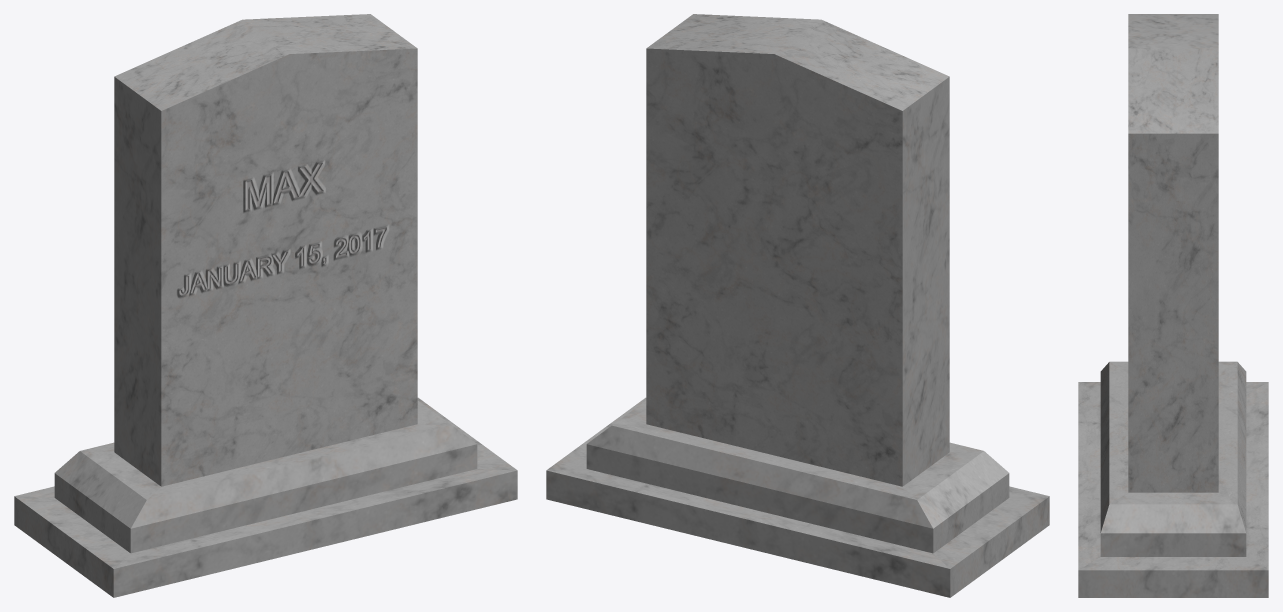
Rendered from TOMBSTONE.FBX.
3 views of the same model, side by side, from view 1: azimuth 30°, elevation 25°; view 2: azimuth 150°, elevation 25°; view 3: azimuth 270°, elevation 25° (orthographic). The views are drawn at different scales.
Visible parts, largest first — view 1: Box001; view 2: Box001; view 3: Box001.
Boxes of the visible parts, box(x1,y1,x2,y2) form: Box001: box(14, 14, 517, 597); Box001: box(546, 14, 1049, 597); Box001: box(1078, 14, 1268, 597).
Size of the model in its own units: 95.61 by 108 by 40.77.
1 material, 1 textured.
